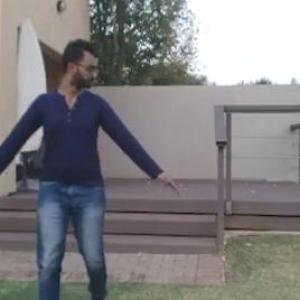land: (1, 37, 180, 299)
